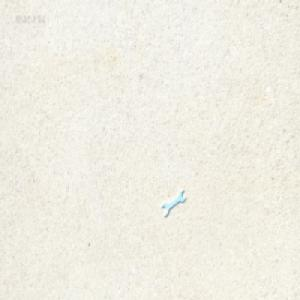Wrench: (162, 187, 186, 216)
